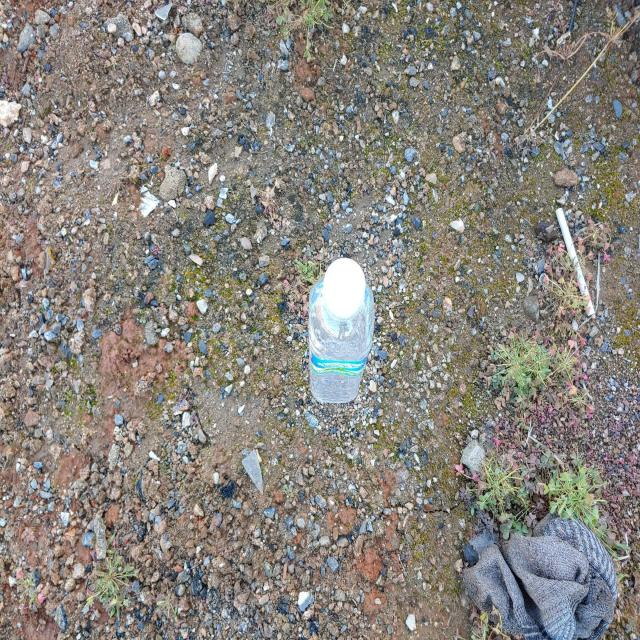plastic: (309, 257, 375, 403)
